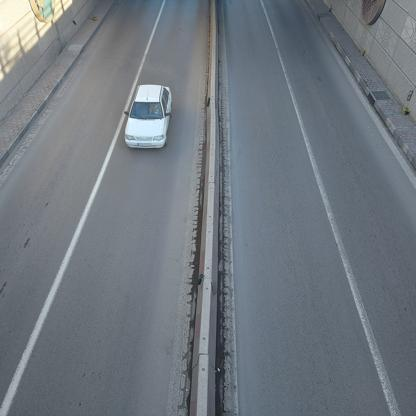Car: (125, 82, 172, 157)
